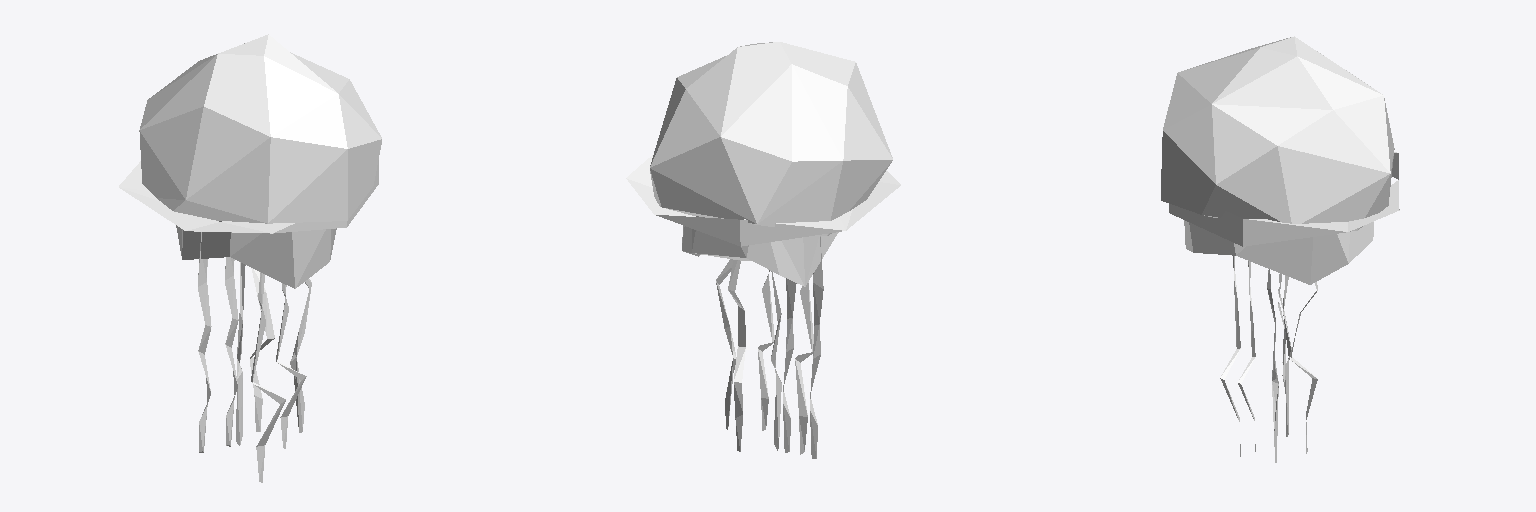
File: condom-jellyfish.obj
3 renders of one model, left to right at view 1: azimuth 30°, elevation 25°; view 2: azimuth 150°, elevation 25°; view 3: azimuth 270°, elevation 25°, orthographic.
Parts seen in each view (by area): view 1: 009_mesh_9, 008_mesh_8, 000_mesh_0, 007_mesh_7, 005_mesh_5, 006_mesh_6, 004_mesh_4, 002_mesh_2, 001_mesh_1, 003_mesh_3; view 2: 009_mesh_9, 000_mesh_0, 008_mesh_8, 002_mesh_2, 007_mesh_7, 006_mesh_6, 005_mesh_5, 003_mesh_3, 001_mesh_1, 004_mesh_4; view 3: 009_mesh_9, 008_mesh_8, 000_mesh_0, 001_mesh_1, 006_mesh_6.
Boxes of the visible parts, x1=… form: 009_mesh_9: x1=139, y1=34, x2=381, y2=223; 008_mesh_8: x1=176, y1=221, x2=336, y2=288; 000_mesh_0: x1=119, y1=160, x2=378, y2=233; 007_mesh_7: x1=198, y1=232, x2=211, y2=452; 005_mesh_5: x1=225, y1=257, x2=238, y2=446; 006_mesh_6: x1=251, y1=272, x2=285, y2=482; 004_mesh_4: x1=236, y1=262, x2=245, y2=445; 002_mesh_2: x1=250, y1=268, x2=274, y2=431; 001_mesh_1: x1=290, y1=279, x2=311, y2=432; 003_mesh_3: x1=276, y1=283, x2=306, y2=448; 009_mesh_9: x1=650, y1=42, x2=892, y2=235; 000_mesh_0: x1=626, y1=154, x2=900, y2=246; 008_mesh_8: x1=682, y1=216, x2=838, y2=286; 002_mesh_2: x1=728, y1=260, x2=745, y2=451; 007_mesh_7: x1=810, y1=236, x2=823, y2=458; 006_mesh_6: x1=795, y1=282, x2=813, y2=454; 005_mesh_5: x1=783, y1=278, x2=796, y2=452; 003_mesh_3: x1=758, y1=270, x2=774, y2=430; 001_mesh_1: x1=716, y1=259, x2=735, y2=429; 004_mesh_4: x1=771, y1=271, x2=781, y2=450; 009_mesh_9: x1=1161, y1=36, x2=1394, y2=231; 008_mesh_8: x1=1184, y1=220, x2=1373, y2=284; 000_mesh_0: x1=1169, y1=152, x2=1399, y2=246; 001_mesh_1: x1=1267, y1=269, x2=1278, y2=462; 006_mesh_6: x1=1220, y1=256, x2=1240, y2=456.
Size of the model in its own units: 82.01 by 152 by 78.61.